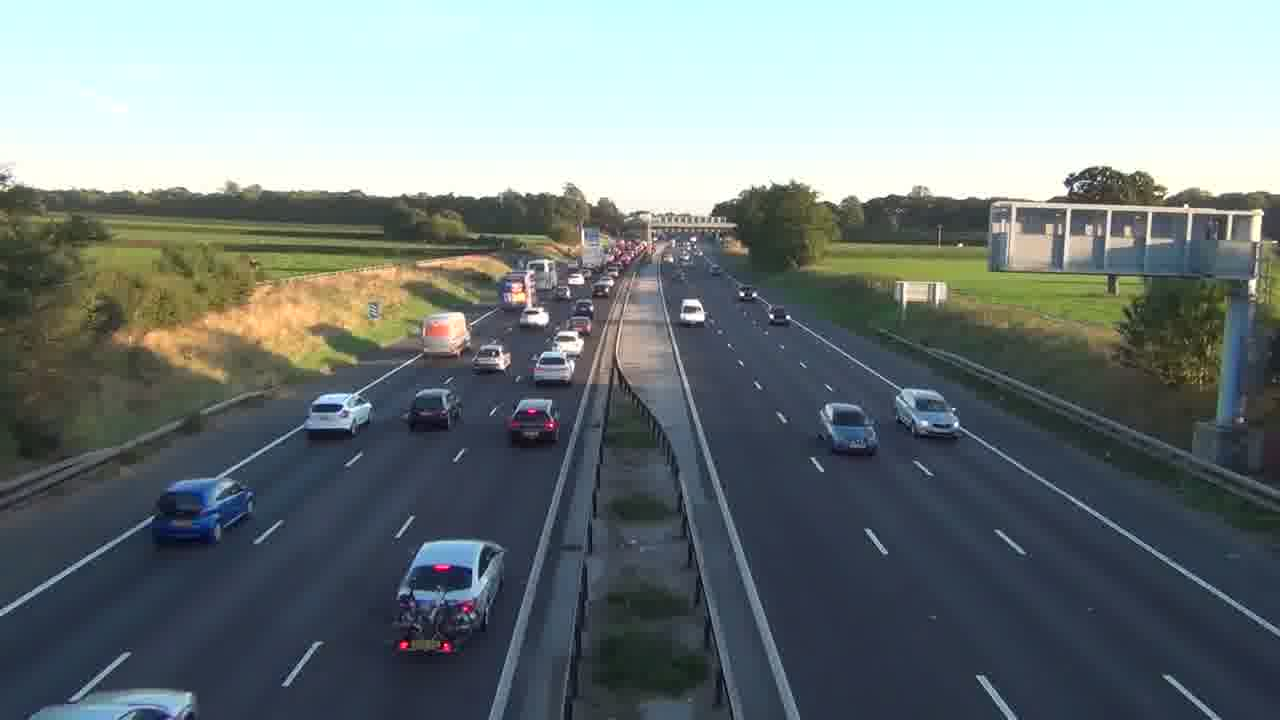car: (392, 538, 508, 645), (151, 477, 256, 545), (28, 688, 197, 719), (818, 401, 880, 456), (894, 386, 959, 438), (507, 397, 560, 446), (407, 387, 463, 431), (530, 350, 572, 385)
truck: (419, 310, 469, 357)
